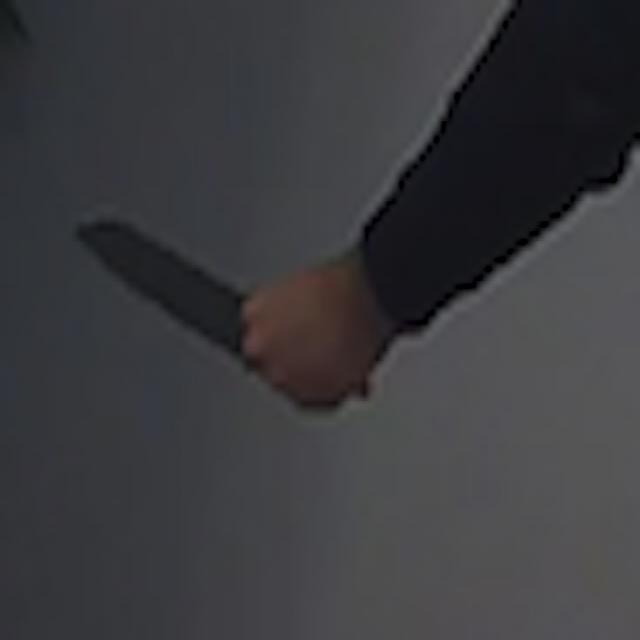suspicion: (64, 5, 634, 418), (70, 204, 240, 344)
